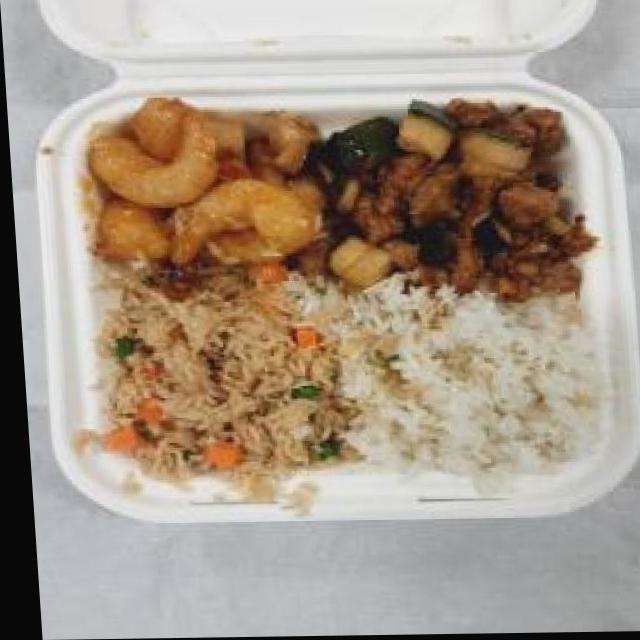Fried Rice: (80, 283, 350, 474)
Honey Walnut Shrimp: (70, 91, 345, 292)
Kung Pao Chicken: (310, 96, 591, 304)
White Steamed Rice: (349, 291, 614, 484)
